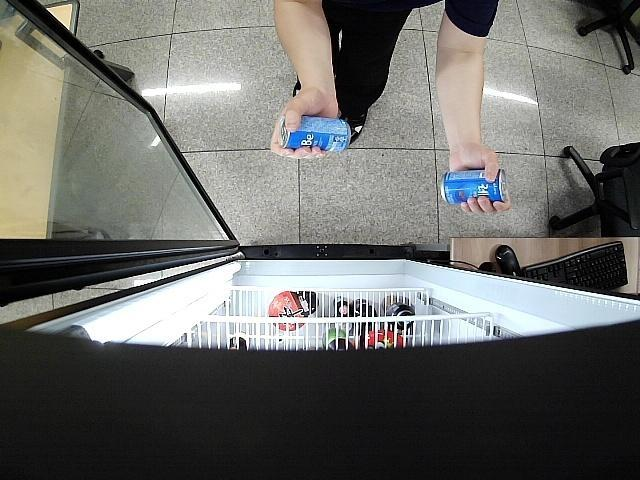15_letsbe: (280, 114, 352, 157), (438, 170, 508, 206)
